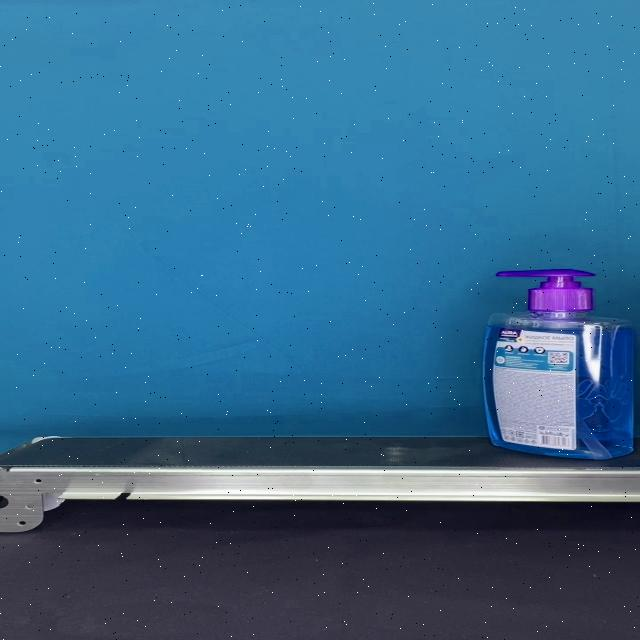Bottle: (482, 269, 634, 459)
Cap: (495, 269, 595, 311)
